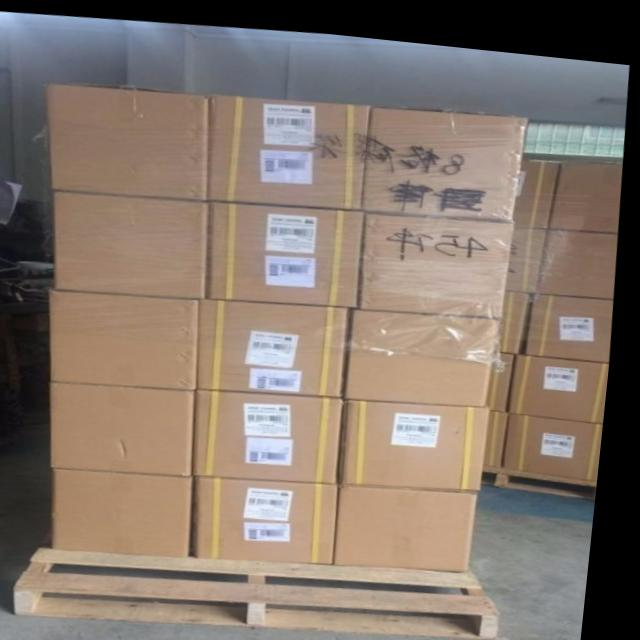box: (47, 80, 215, 196), (211, 89, 374, 202), (366, 98, 530, 210), (56, 190, 214, 295), (213, 196, 367, 299), (367, 204, 519, 306), (352, 301, 508, 397), (56, 289, 205, 387), (203, 294, 355, 389), (202, 383, 350, 474), (58, 379, 201, 471), (350, 391, 496, 478), (203, 470, 348, 556), (63, 465, 202, 552), (345, 478, 486, 561), (515, 341, 615, 409), (511, 401, 611, 466), (532, 282, 618, 348), (540, 216, 621, 284), (552, 147, 624, 218), (515, 148, 563, 217), (510, 215, 552, 282), (502, 279, 539, 342), (502, 280, 537, 342), (495, 340, 520, 401), (493, 398, 515, 456)
